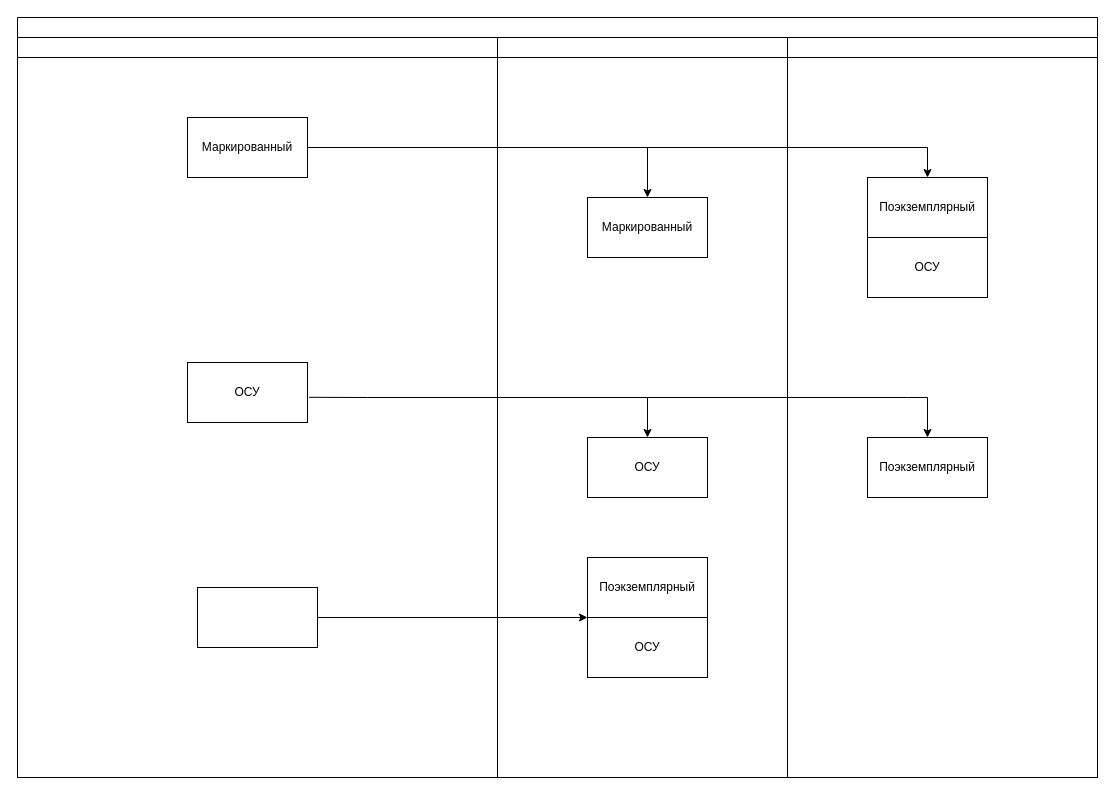
Image size: 1115x795. Some labels were removed from this diagram. The shapes that lost their labels are listed below. From the top down, each one's box as (x1, y1, x2, y2) in pixels, then its label:
(16, 36, 498, 778): ERP / PIM признак
(496, 36, 1098, 778): WMS Поставить признак
(786, 36, 1098, 778): WMS Снять признак
(196, 586, 318, 648): Поэкземплярный + ТГ + Маркировка = Нет
